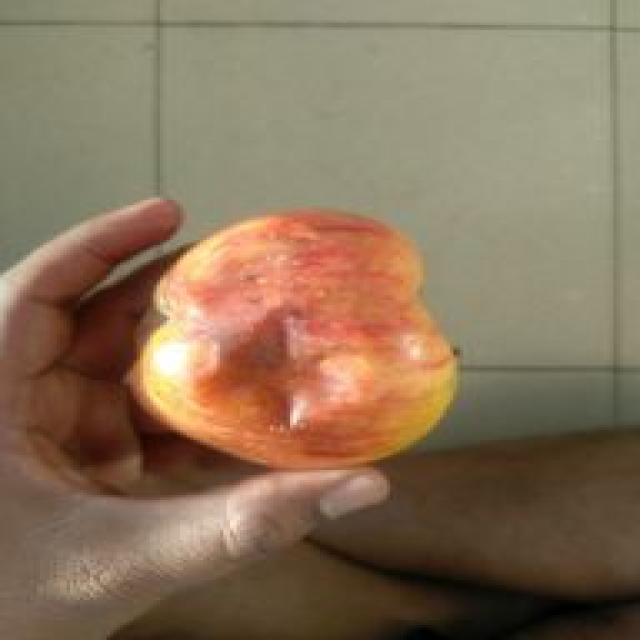Rotten_Apple: (116, 209, 476, 482)
